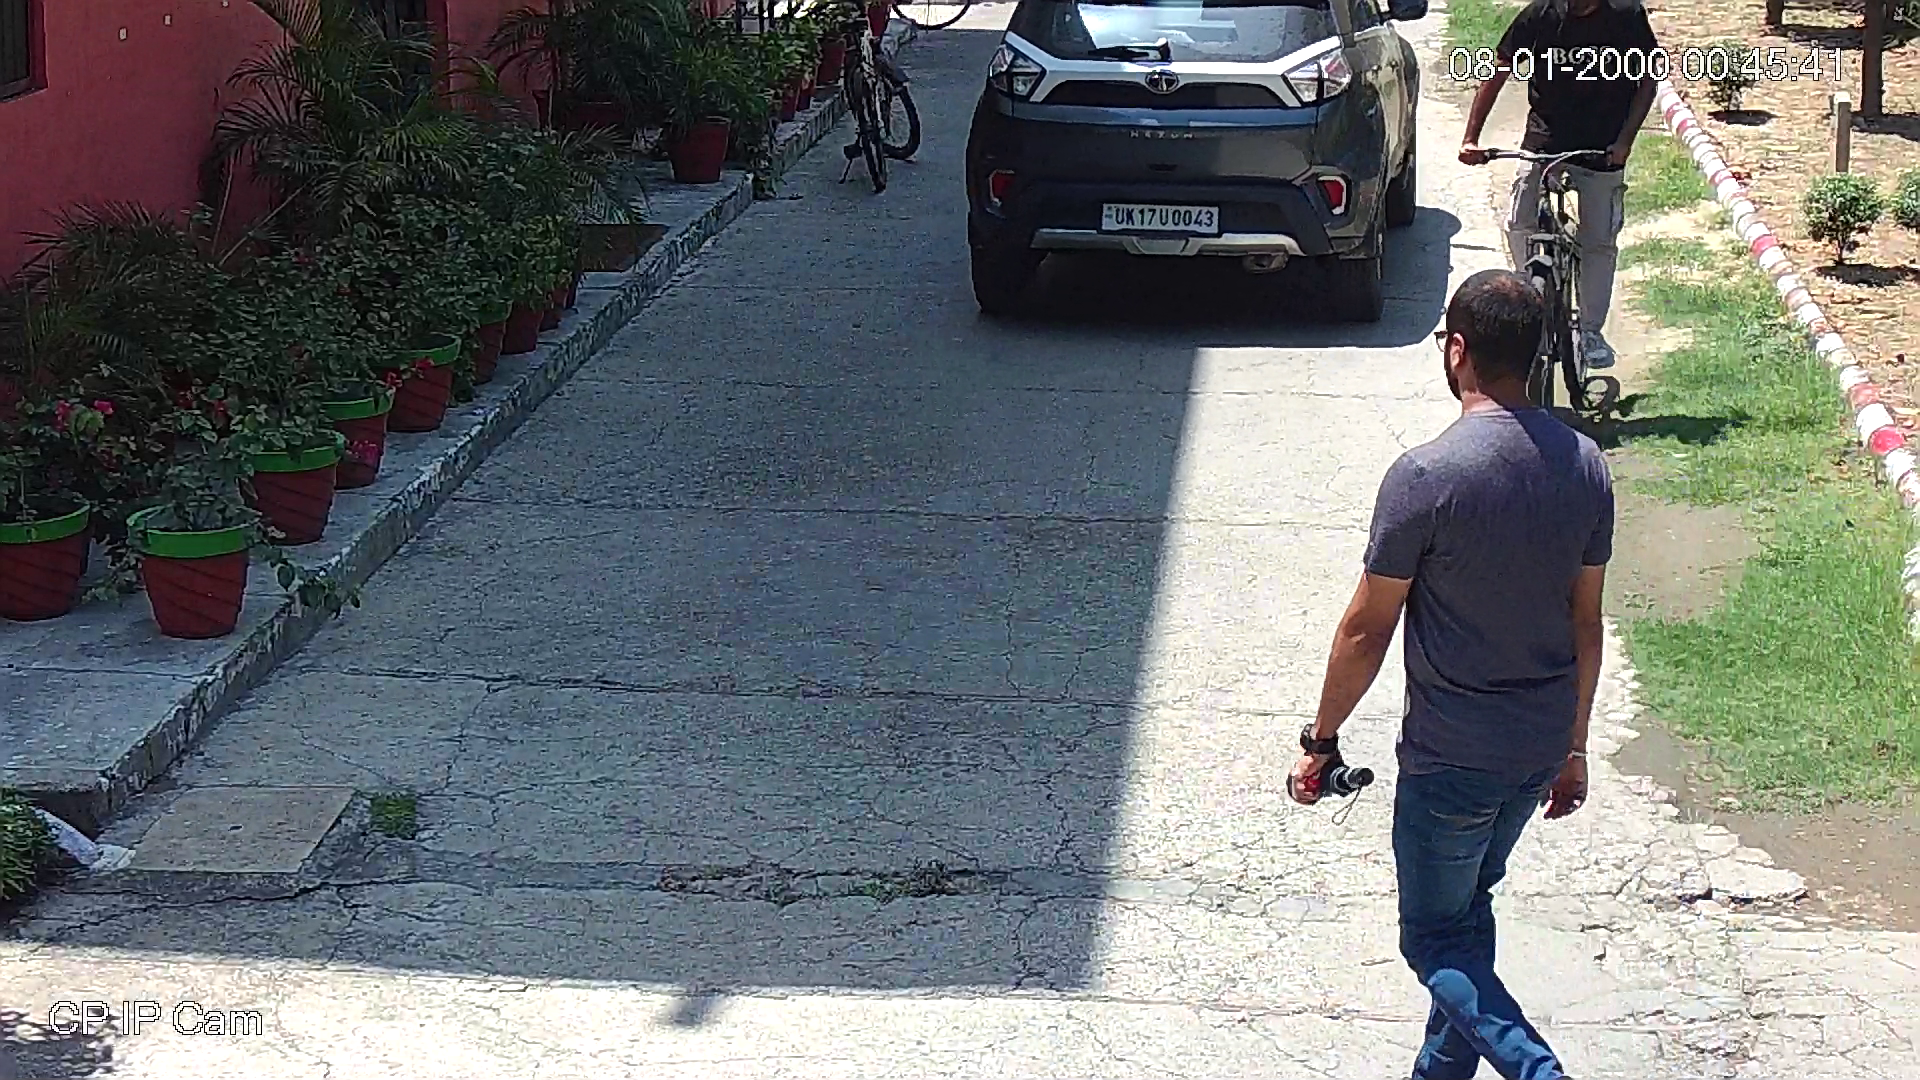plate: (1097, 198, 1225, 237)
